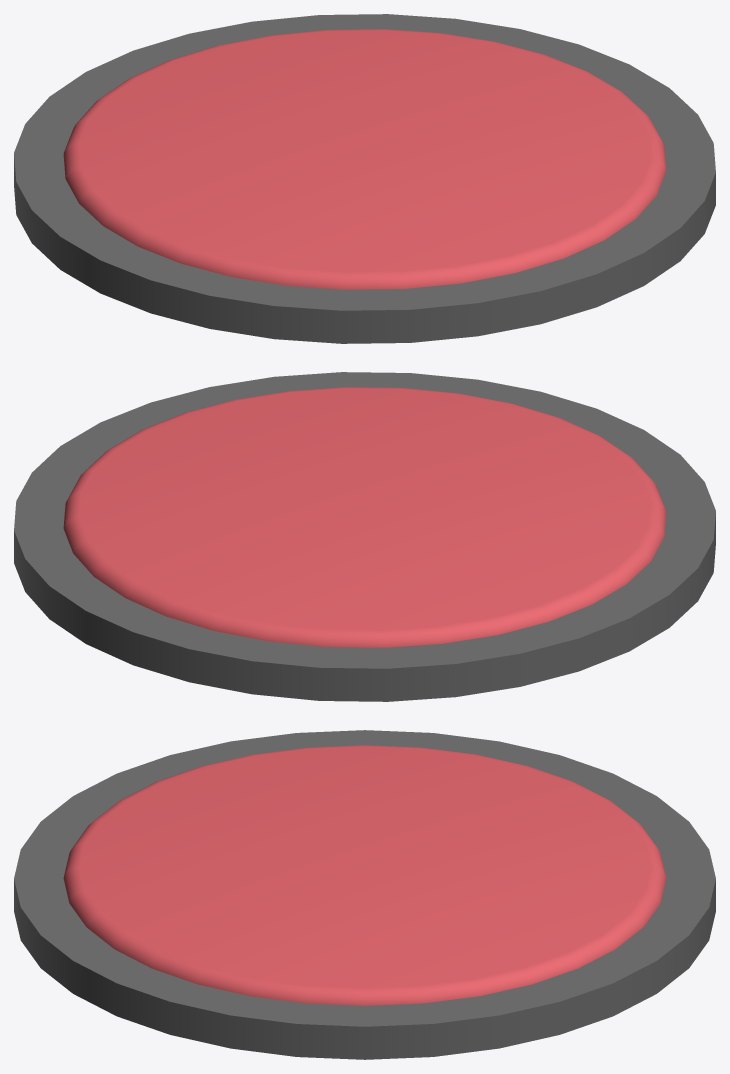
File: button.glb
The picture shows the model from 3 angles, top to bottom: view 1: azimuth 30°, elevation 25°; view 2: azimuth 150°, elevation 25°; view 3: azimuth 270°, elevation 25°; orthographic projection.
Parts seen in each view (by area): view 1: Button, ButtonBase; view 2: Button, ButtonBase; view 3: Button, ButtonBase.
Part boxes in pixels (x1,y1,x2,y2): Button: (63, 29, 666, 289); ButtonBase: (14, 14, 715, 343); Button: (63, 387, 666, 647); ButtonBase: (14, 372, 715, 701); Button: (63, 745, 666, 1005); ButtonBase: (14, 730, 715, 1059).
Size of the model in its own units: 2.75 by 0.1905 by 2.75.
